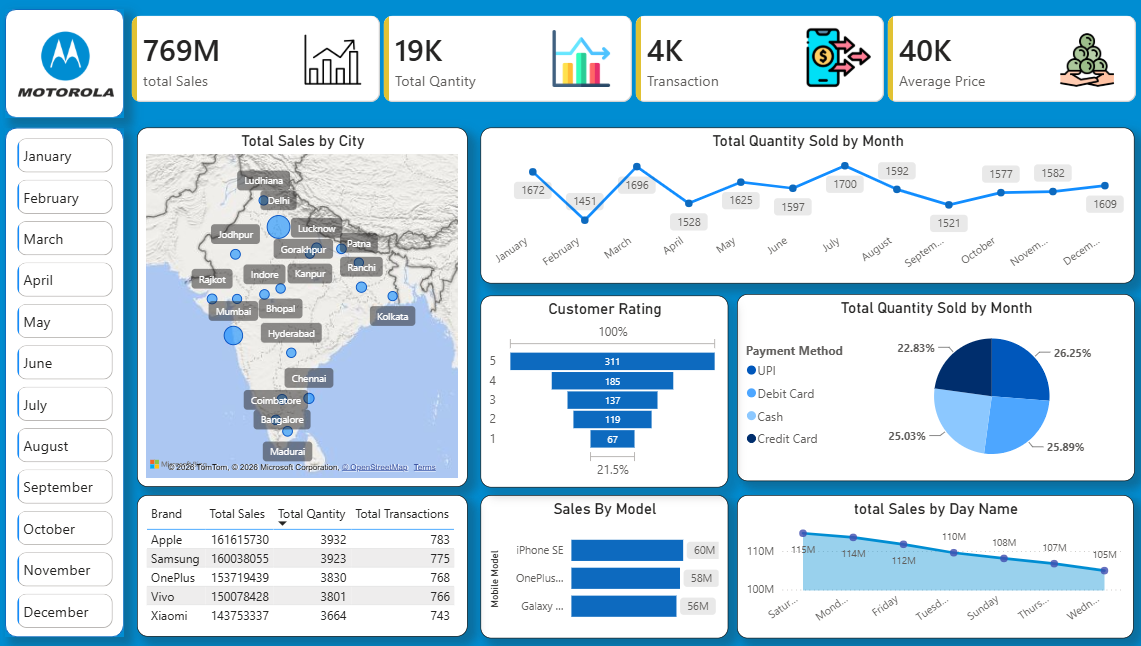

What the dashboard file says about the page in this screenshot:
{"tool":"powerbi","page":{"name":"Sales Dashboard","canvas":[1280,720],"ordinal":0},"visuals":[{"type":"shape","box":[6.4,9.5,132,120.9],"z":0},{"type":"image","box":[8,11.1,132,119.3],"z":1000},{"type":"shape","box":[6.4,141.6,132,566.3],"z":2000},{"type":"advancedSlicerVisual","fields":{"Values":["Sales Data.Date.Variation.Date Hierarchy.Month"]},"box":[14.3,147.9,116.1,559.9],"z":3000},{"type":"cardVisual","fields":{"Data":["Sales Data.total Sales","Sales Data.Total Qantity","Sales Data.Transaction","Sales Data.Average Price"]},"box":[130.4,0,1150,130.4],"z":4000},{"type":"image","box":[305.4,27,132,79.5],"z":5000},{"type":"image","box":[585.3,33.4,124.1,63.6],"z":6000},{"type":"image","box":[876.4,28.6,112.9,71.6],"z":7000},{"type":"image","box":[1156.4,35,105,63.6],"z":8000},{"type":"map","title":"Total Sales by City","fields":{"Category":["Sales Data.City"],"Size":["Sales Data.total Sales"]},"box":[152.7,141.6,367.4,399.2],"z":9000},{"type":"lineChart","title":"Total Quantity Sold by Month","fields":{"Category":["Sales Data.Date.Variation.Date Hierarchy.Month","Sales Data.Date.Variation.Date Hierarchy.Day"],"Y":["Sales Data.Total Qantity"]},"box":[534.4,141.6,726.9,173.4],"z":10000},{"type":"barChart","title":"Sales By Model","fields":{"Category":["Sales Data.Mobile Model"],"Y":["Sales Data.total Sales"]},"box":[534.4,550.4,275.2,159.1],"z":11000},{"type":"pieChart","title":"Total Quantity Sold by Month","fields":{"Category":["Sales Data.Payment Method"],"Y":["CountNonNull(Sales Data.Transaction ID)"]},"box":[820.2,326.9,442.2,207.9],"z":12000},{"type":"funnel","title":"Customer Rating","fields":{"Category":["Sales Data.Customer Ratings"],"Y":["CountNonNull(Sales Data.Customer Ratings)"]},"box":[534.4,327.7,275.2,213.1],"z":13000},{"type":"areaChart","fields":{"Y":["Sales Data.total Sales"],"Category":["Sales Data.Day Name"]},"box":[820.8,550.4,440.6,159.1],"z":14000},{"type":"tableEx","fields":{"Values":["Sales Data.Brand","Sales Data.total Sales","Sales Data.Total Qantity","CountNonNull(Sales Data.Transaction ID)"]},"box":[152.7,550.4,367.4,157.5],"z":15000}]}

Visuals, with their boxes in screenshot pixels (x1, y1, x2, y2), scaled from the page's 1280x720 canvas onto the 1141x646 screenshot:
shape: box(6, 9, 123, 117)
image: box(7, 10, 125, 117)
shape: box(6, 127, 123, 635)
advancedSlicerVisual - Sales Data.Date.Variation.Date Hierarchy.Month: box(13, 133, 116, 635)
cardVisual - Sales Data.total Sales x Sales Data.Total Qantity: box(116, 0, 1140, 117)
image: box(272, 24, 390, 96)
image: box(522, 30, 632, 87)
image: box(781, 26, 882, 90)
image: box(1031, 31, 1124, 88)
"Total Sales by City" map: box(136, 127, 464, 485)
"Total Quantity Sold by Month" lineChart: box(476, 127, 1124, 283)
"Sales By Model" barChart: box(476, 494, 722, 637)
"Total Quantity Sold by Month" pieChart: box(731, 293, 1125, 480)
"Customer Rating" funnel: box(476, 294, 722, 485)
areaChart - Sales Data.total Sales x Sales Data.Day Name: box(732, 494, 1124, 637)
tableEx - Sales Data.Brand x Sales Data.total Sales: box(136, 494, 464, 635)
